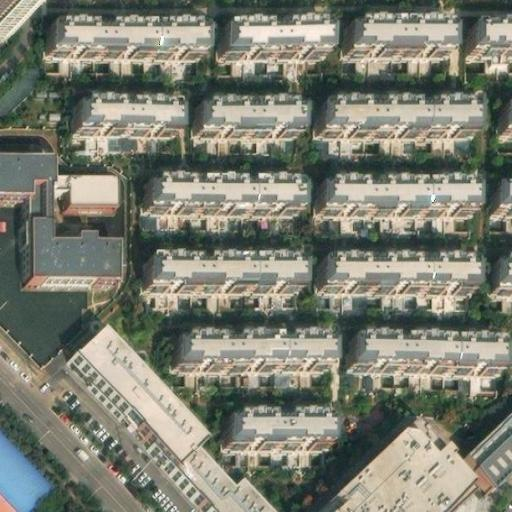building: (71, 322, 278, 512), (0, 153, 113, 278), (317, 426, 464, 512), (146, 251, 305, 284), (349, 330, 502, 364), (325, 98, 477, 131), (144, 173, 296, 206), (317, 174, 473, 206), (46, 16, 197, 48), (318, 253, 472, 284), (172, 334, 328, 364), (464, 403, 512, 479), (223, 409, 328, 442), (195, 99, 302, 131), (342, 14, 443, 47), (216, 16, 325, 46), (75, 97, 179, 126), (46, 174, 109, 205), (467, 16, 512, 47), (491, 96, 512, 137), (493, 253, 512, 285), (493, 179, 512, 207)
